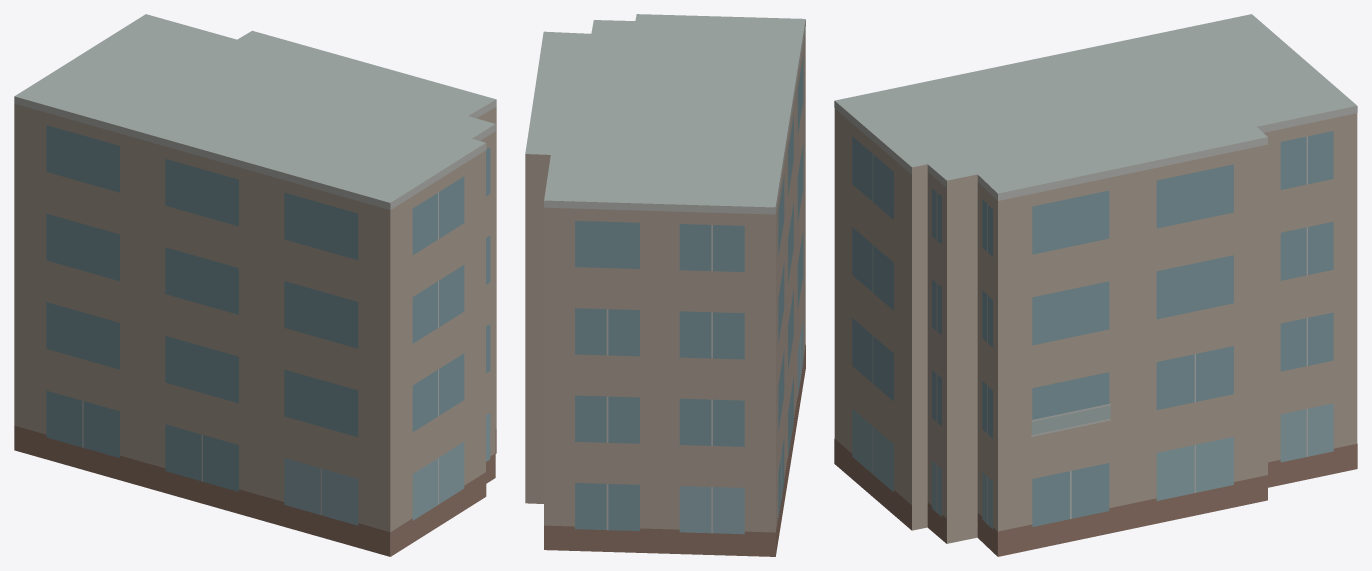
Rendered from survey-upis-32704008.glb.
3 renders of one model, left to right at view 1: azimuth 30°, elevation 25°; view 2: azimuth 150°, elevation 25°; view 3: azimuth 270°, elevation 25°, orthographic. The views are drawn at different scales.
Visible parts, largest first — view 1: survey-upis-32704008.tmp; view 2: survey-upis-32704008.tmp; view 3: survey-upis-32704008.tmp.
Part boxes in pixels (bbox=[...]): survey-upis-32704008.tmp: bbox=[14, 14, 496, 556]; survey-upis-32704008.tmp: bbox=[525, 14, 805, 556]; survey-upis-32704008.tmp: bbox=[834, 14, 1357, 556].
Bounding box in the file's own units: 12.74 × 12 × 15.67.
